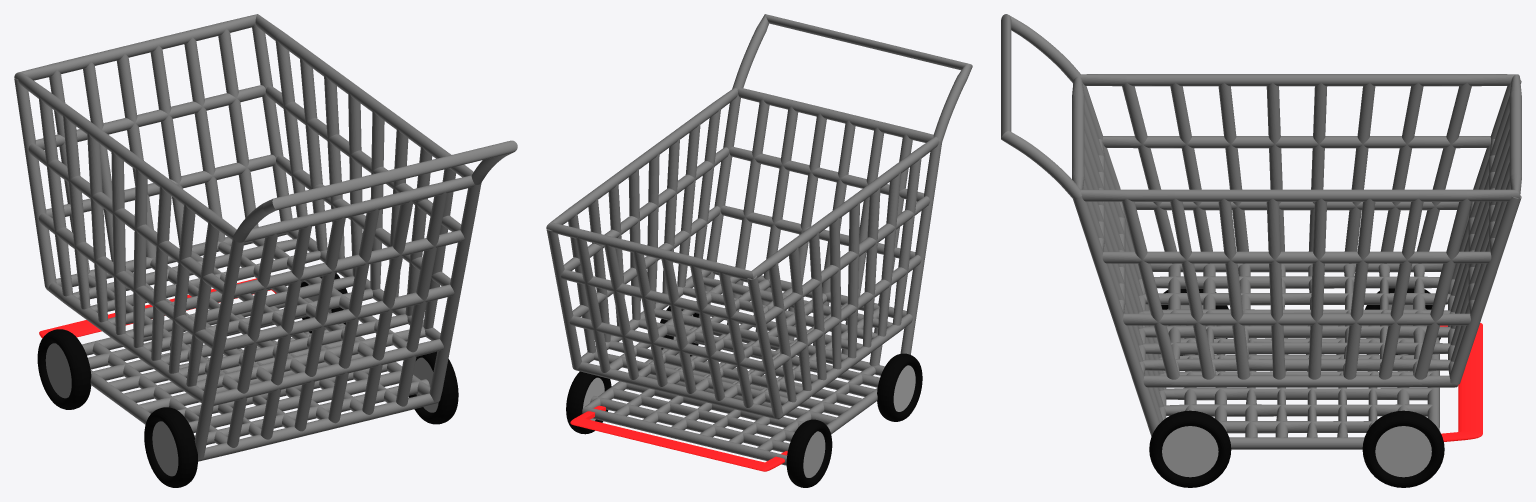
Rendered from BossCart.fbx.
The picture shows the model from 3 angles, left to right: view 1: azimuth 30°, elevation 25°; view 2: azimuth 150°, elevation 25°; view 3: azimuth 270°, elevation 25°; orthographic projection. The views are drawn at different scales.
Visible parts, largest first — view 1: Cube, Torus, Torus.002, Torus.003, Cube.003; view 2: Cube, Torus, Torus.002, Cube.003, Torus.004; view 3: Cube, Torus.004, Torus.003, Cube.003.
Part boxes in pixels (x1,y1,x2,y2): Cube: (14, 14, 517, 461); Torus: (37, 329, 91, 409); Torus.002: (144, 407, 197, 487); Torus.003: (409, 351, 458, 424); Cube.003: (39, 278, 276, 338); Cube: (546, 14, 972, 465); Torus: (786, 419, 832, 487); Torus.002: (877, 353, 922, 421); Cube.003: (570, 405, 787, 471); Torus.004: (566, 371, 611, 434); Cube: (1001, 14, 1521, 449); Torus.004: (1362, 410, 1444, 487); Torus.003: (1149, 410, 1231, 487); Cube.003: (1440, 323, 1482, 441).
Bounding box in the file's own units: 236 × 283 × 381.
